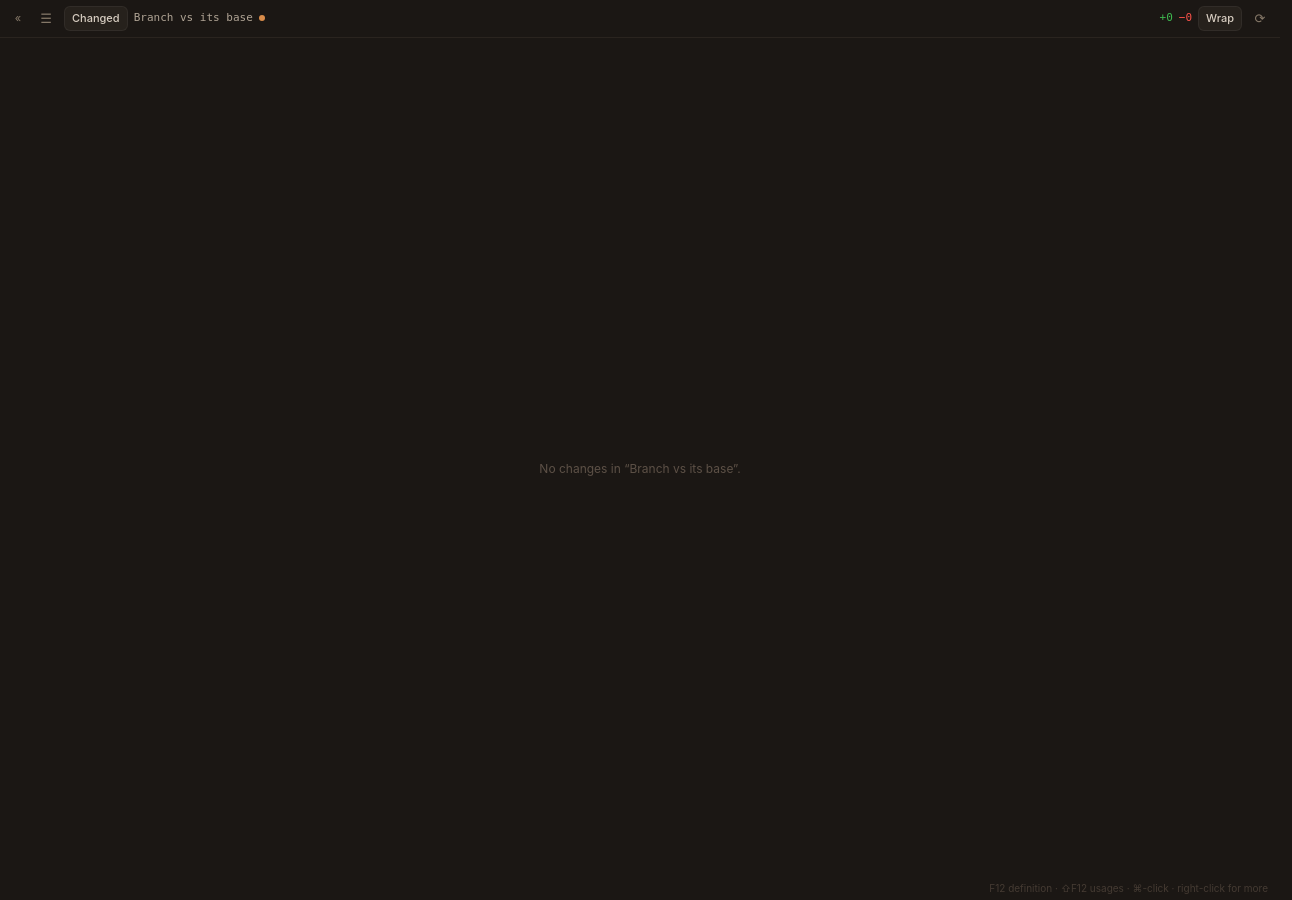
Test: changing scope while a diff is still loading › does not report a failure that belongs to the scope it left
Click the button named "Files and settings".
click(46, 18)  # box left=34, top=6, right=58, bottom=30
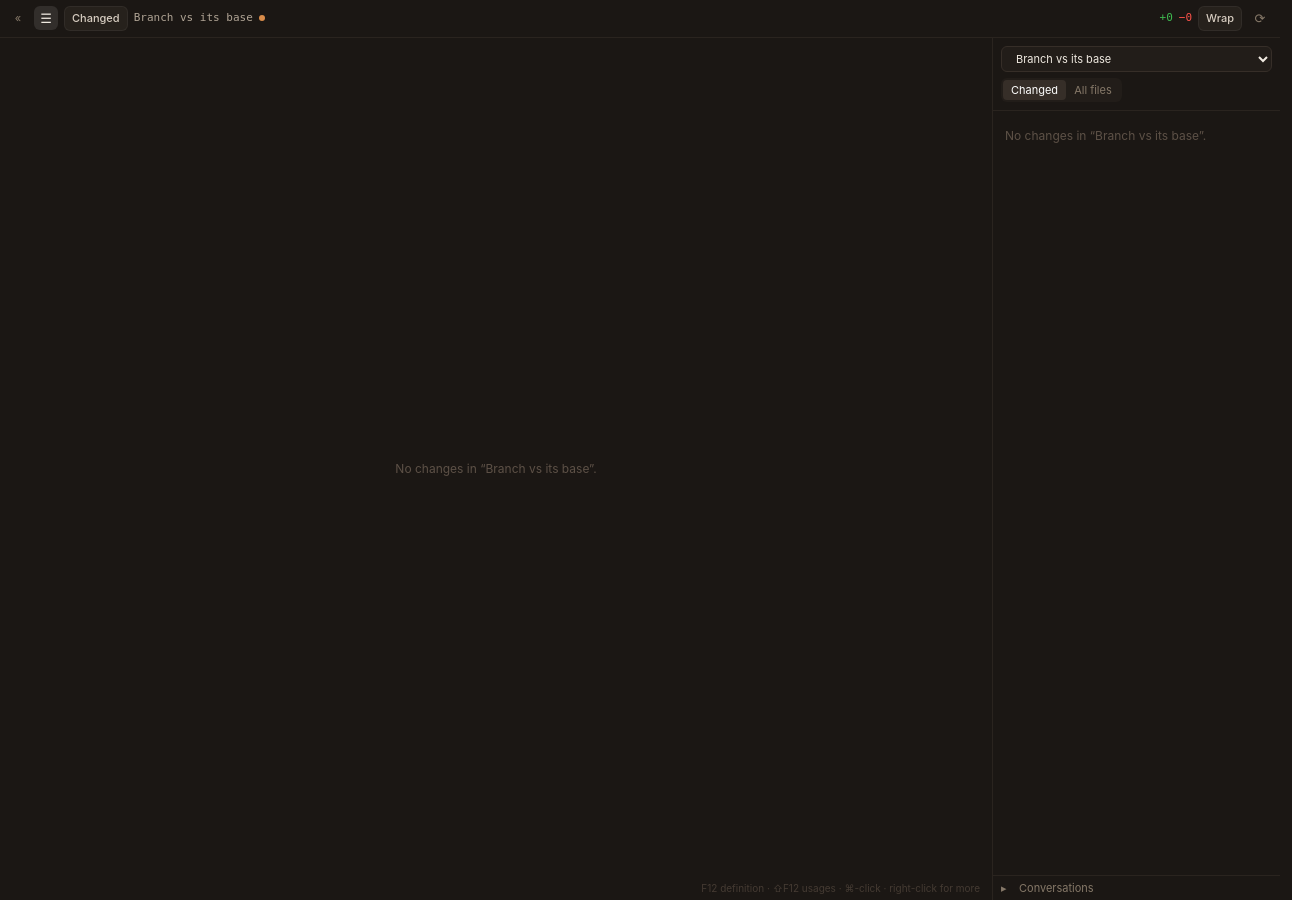
Select "Staged" in the dropdown named "What to compare" at (1136, 58), box left=1001, top=46, right=1272, bottom=72
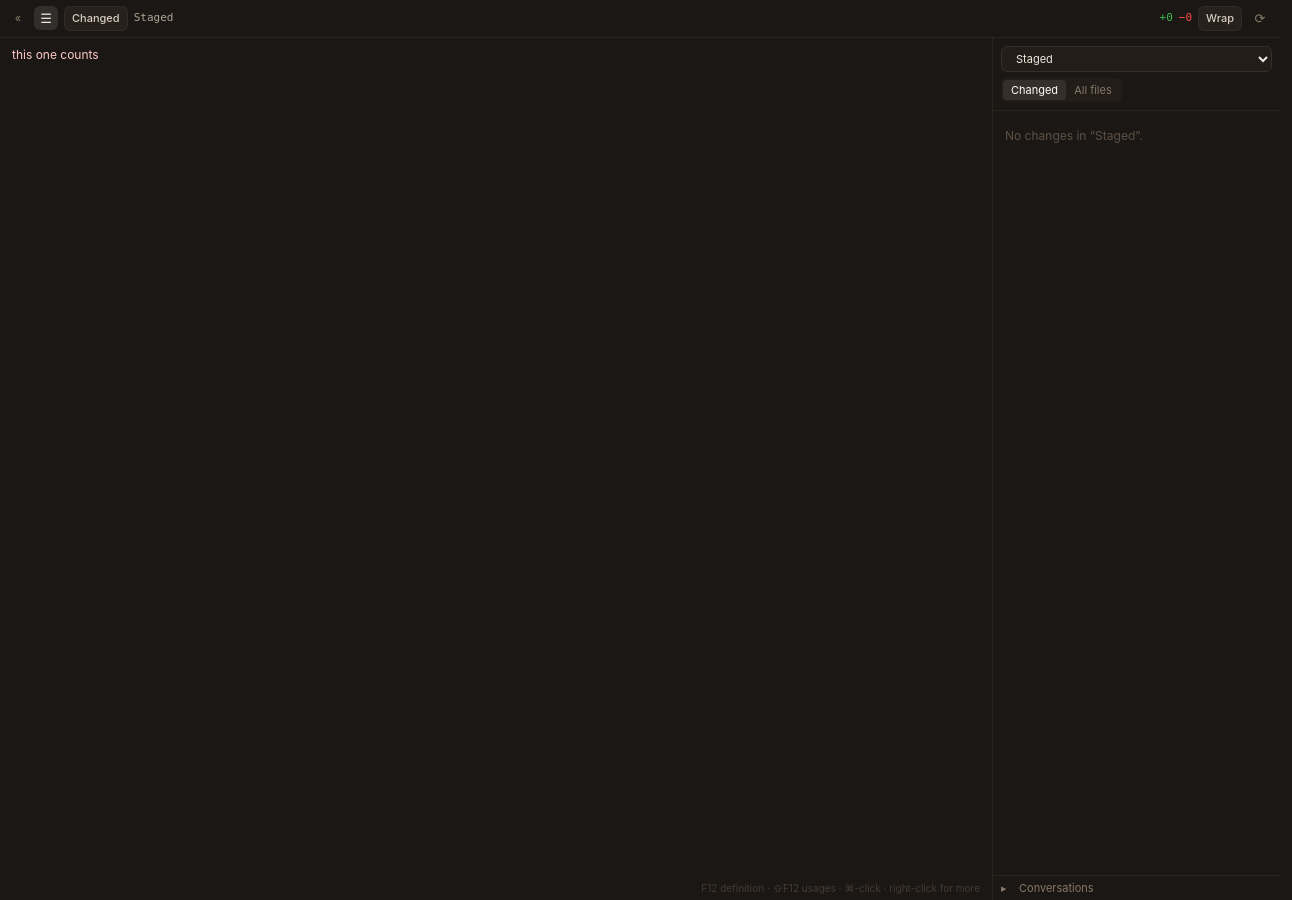
Now the text "this one counts" is shown, box left=12, top=46, right=99, bottom=62
